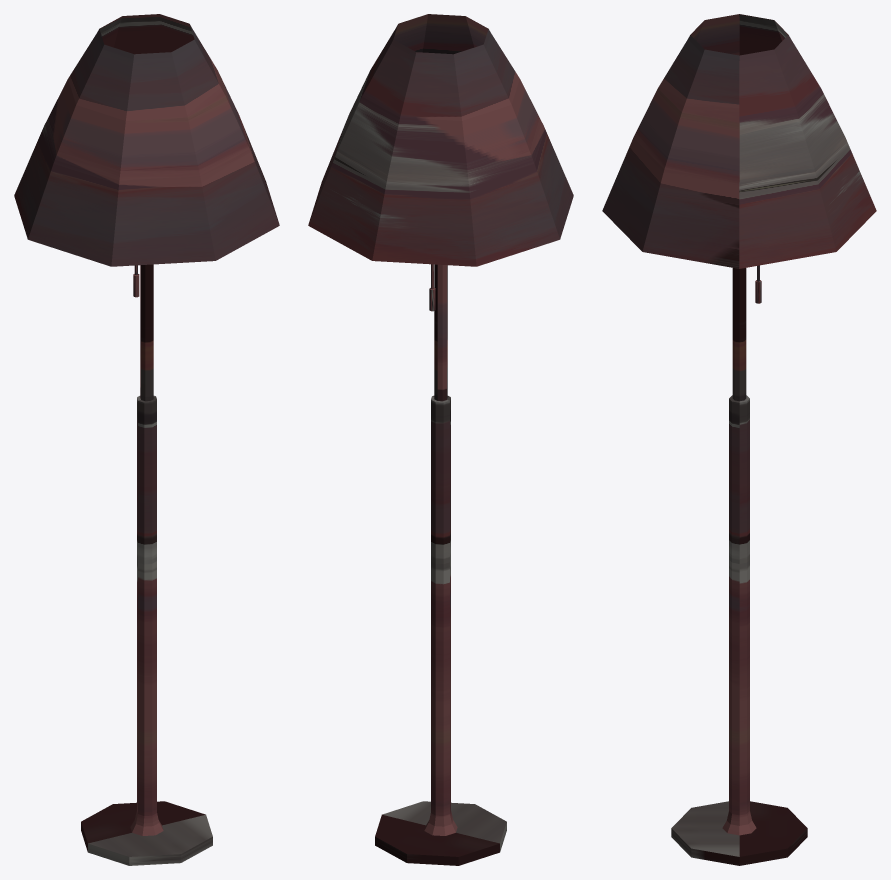
File: floor lamp.fbx
The picture shows the model from 3 angles, left to right: view 1: azimuth 30°, elevation 25°; view 2: azimuth 150°, elevation 25°; view 3: azimuth 270°, elevation 25°; orthographic projection.
Parts seen in each view (by area): view 1: floor lamp; view 2: floor lamp; view 3: floor lamp.
Part boxes in pixels (x1,y1,x2,y2): floor lamp: [14, 14, 279, 865]; floor lamp: [308, 14, 573, 865]; floor lamp: [602, 14, 876, 865].
Size of the model in its own units: 388 by 1251 by 388.
